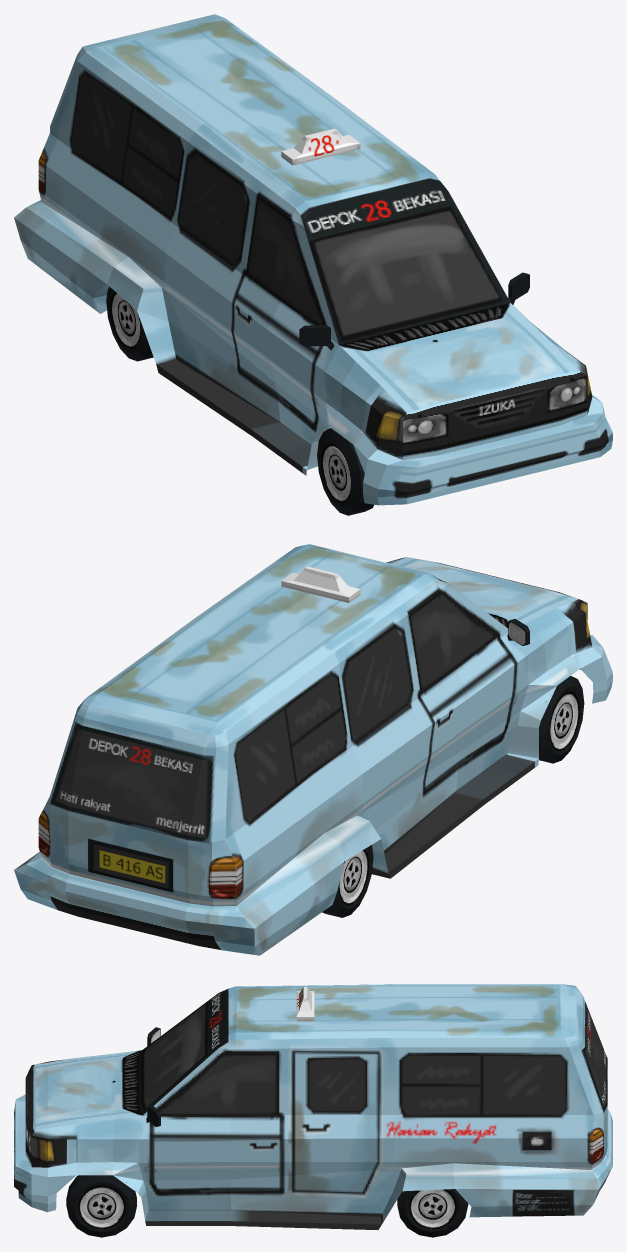
The model's file is taxi1.glb.
3 views of the same model, one above another, from view 1: azimuth 30°, elevation 25°; view 2: azimuth 150°, elevation 25°; view 3: azimuth 270°, elevation 25° (orthographic). The views are drawn at different scales.
Parts seen in each view (by area): view 1: Plane; view 2: Plane; view 3: Plane.
Boxes of the visible parts, x1,y1,x2,y2 form: Plane: (14, 14, 612, 515); Plane: (14, 544, 612, 955); Plane: (14, 984, 612, 1237).
Size of the model in its own units: 3.31 by 3.33 by 8.95.
1 material, 1 textured.
